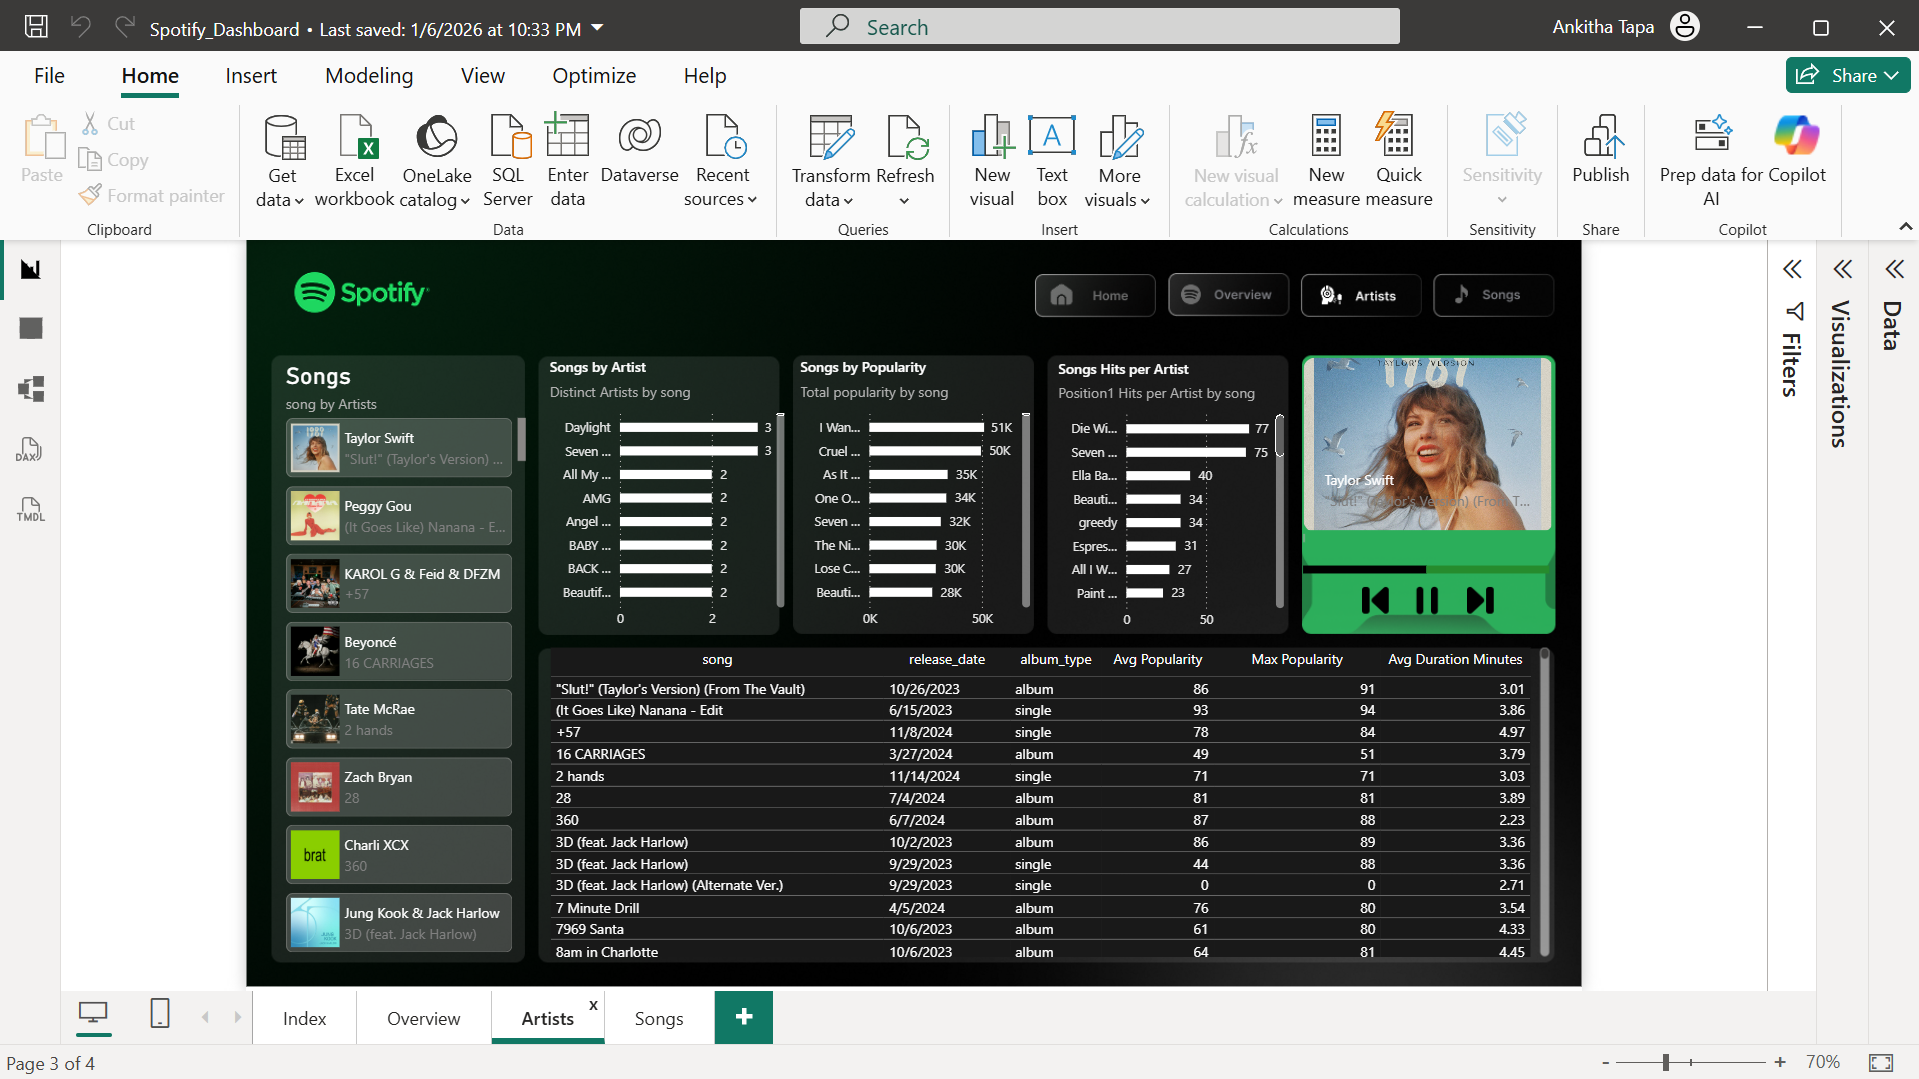

The dashboard page shown, as its layout file describes it:
{"tool":"powerbi","page":{"name":"Artists","canvas":[1280,720],"ordinal":2},"visuals":[{"type":"actionButton","box":[757.4,31.5,116.3,40.3],"z":0},{"type":"actionButton","box":[1011.7,31.5,116.3,40.3],"z":1000},{"type":"actionButton","box":[1138.9,31.5,116.3,40.3],"z":2000},{"type":"actionButton","box":[884.5,31.5,116.3,40.3],"z":3000},{"type":"advancedSlicerVisual","title":"Songs","fields":{"Values":["Top-50-World.song"]},"box":[1008.8,106.9,249.8,190.8],"z":4000},{"type":"hundredPercentStackedBarChart","fields":{"Y":["_Measures.Avg Popularity","Avg(Top-50-World.popularity)"]},"box":[1008.1,277.1,246.6,69.8],"z":5000},{"type":"image","box":[1062.4,331.4,40.3,29.5],"z":6000},{"type":"image","box":[1163.2,331.4,40.3,29.5],"z":7000},{"type":"image","box":[1113.5,331.4,38.8,29.5],"z":8000},{"type":"shape","box":[1008.1,104.9,251.2,290],"z":9000},{"type":"clusteredBarChart","title":"Songs by Artist","fields":{"Category":["Top-50-World.song"],"Y":["_Measures.Distinct Artists"]},"box":[286.8,112.8,235.3,269.1],"z":10000},{"type":"clusteredBarChart","title":"Songs by Popularity","fields":{"Category":["Top-50-World.song"],"Y":["Sum(Top-50-World.popularity)"]},"box":[526.9,112.8,230.4,269.1],"z":11000},{"type":"clusteredBarChart","title":"Songs Hits per Artist","fields":{"Category":["Top-50-World.song"],"Y":["_Measures.Position1 Hits per Artist"]},"box":[773.9,113.2,226.4,268.3],"z":12000},{"type":"advancedSlicerVisual","title":"Songs","fields":{"Values":["Top-50-World.song"]},"box":[32.6,116.3,240.4,572.3],"z":13000},{"type":"tableEx","fields":{"Values":["Top-50-World.song","Top-50-World.release_date.Variation.Date Hierarchy.Year","Top-50-World.album_type","_Measures.Avg Popularity","_Measures.Max Popularity","_Measures.Avg Duration Minutes"]},"box":[286.8,385.1,968.5,306.2],"z":13001}]}

Visuals, with their boxes on the page's 1280x720 design canvas (x1, y1, x2, y2). These are canvas units, not pixel positions in the 1919x1079 screenshot, which may show the page scaled, cropped or inside an application window:
actionButton: (757,32,874,72)
actionButton: (1012,32,1128,72)
actionButton: (1139,32,1255,72)
actionButton: (884,32,1001,72)
"Songs" advancedSlicerVisual: (1009,107,1259,298)
hundredPercentStackedBarChart - _Measures.Avg Popularity x Avg(Top-50-World.popularity): (1008,277,1255,347)
image: (1062,331,1103,361)
image: (1163,331,1204,361)
image: (1114,331,1152,361)
shape: (1008,105,1259,395)
"Songs by Artist" clusteredBarChart: (287,113,522,382)
"Songs by Popularity" clusteredBarChart: (527,113,757,382)
"Songs Hits per Artist" clusteredBarChart: (774,113,1000,382)
"Songs" advancedSlicerVisual: (33,116,273,689)
tableEx - Top-50-World.song x Top-50-World.release_date.Variation.Date Hierarchy.Year: (287,385,1255,691)
